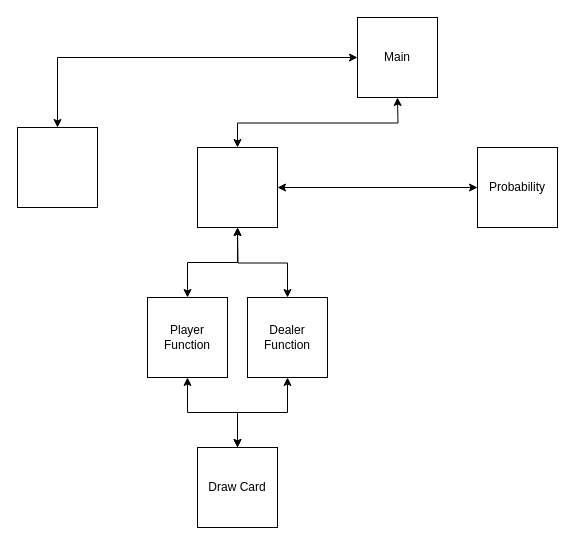
This 575x545 diagram has some shape labels left out. Here are the shapes that lost their labels. From the top down, the centre of each, then its label:
At point 57,167: "Input Function".
At point 237,187: "Tournament".
